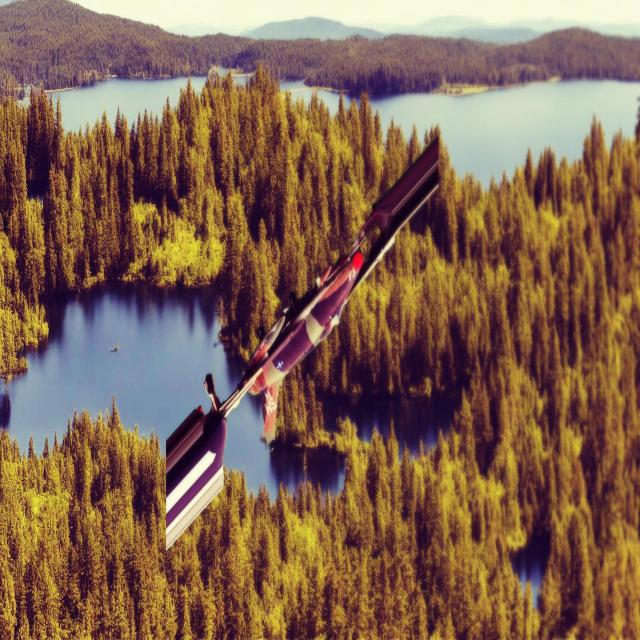airplane: (164, 134, 440, 550)
